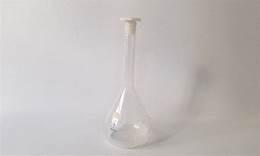Volumetric flask: (100, 15, 160, 147)
